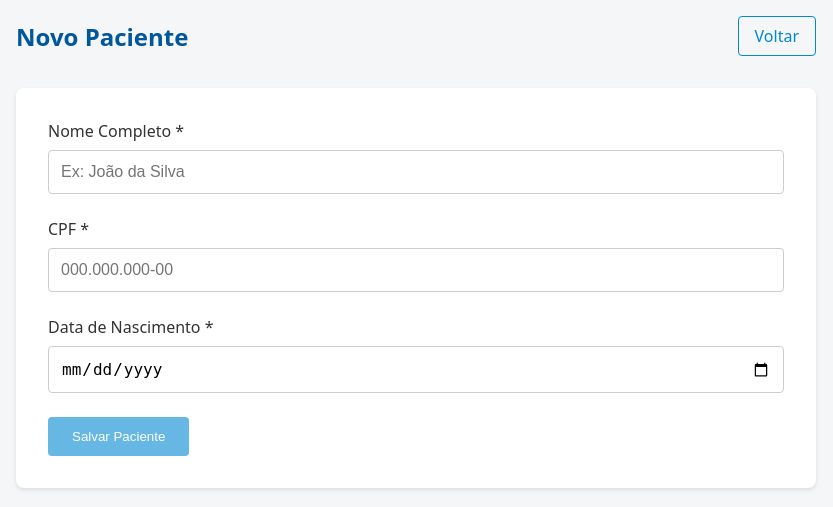
it: PatientFormComponent › should apply CPF mask while typing
Type "12345678901" into the field with id "document". click: [416, 270]
box: 48,248 -> 784,292
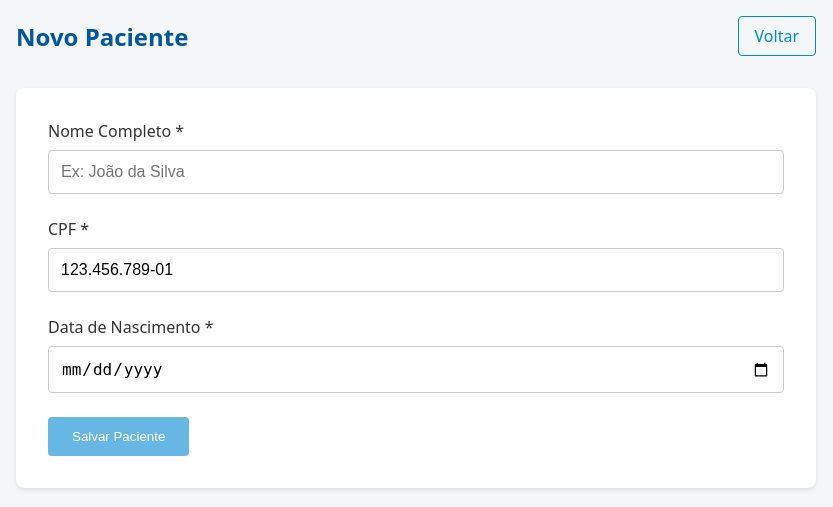
Result: the field with id "document" holds "123.456.789-01" at 48,248 -> 784,292
